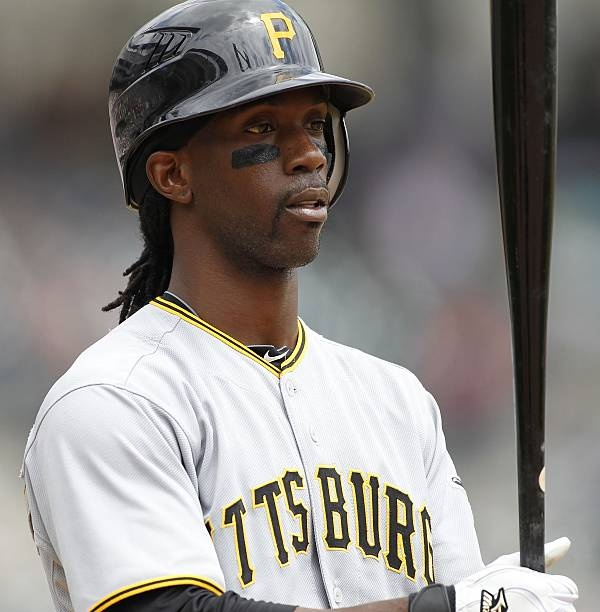bita: (489, 1, 563, 577)
